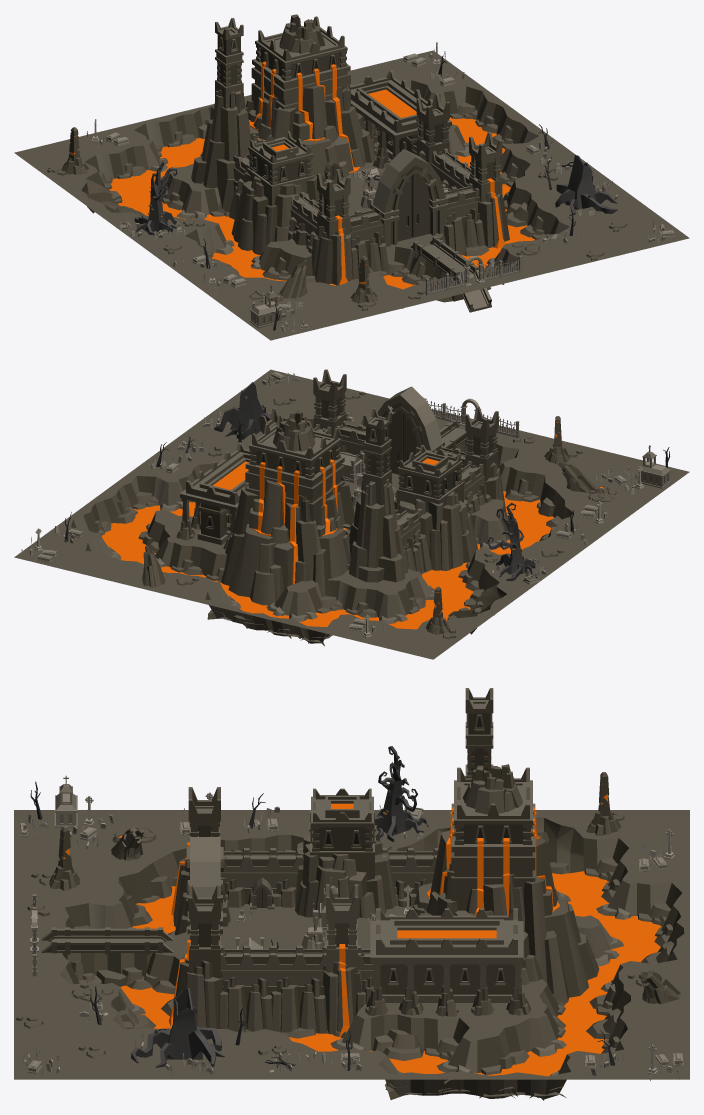
File: SF_Bld_Preset_Undead_Castle_01.fbx
The picture shows the model from 3 angles, top to bottom: view 1: azimuth 30°, elevation 25°; view 2: azimuth 150°, elevation 25°; view 3: azimuth 270°, elevation 25°; orthographic projection. The views are drawn at different scales.
Visible parts, largest first — view 1: SF_Env_Preset_Undead_Castle_01; view 2: SF_Env_Preset_Undead_Castle_01; view 3: SF_Env_Preset_Undead_Castle_01.
Boxes of the visible parts, bbox=[...] form: SF_Env_Preset_Undead_Castle_01: bbox=[14, 14, 689, 340]; SF_Env_Preset_Undead_Castle_01: bbox=[14, 369, 689, 659]; SF_Env_Preset_Undead_Castle_01: bbox=[14, 688, 689, 1100].
Bounding box in the file's own units: 120 × 51.6 × 127.
